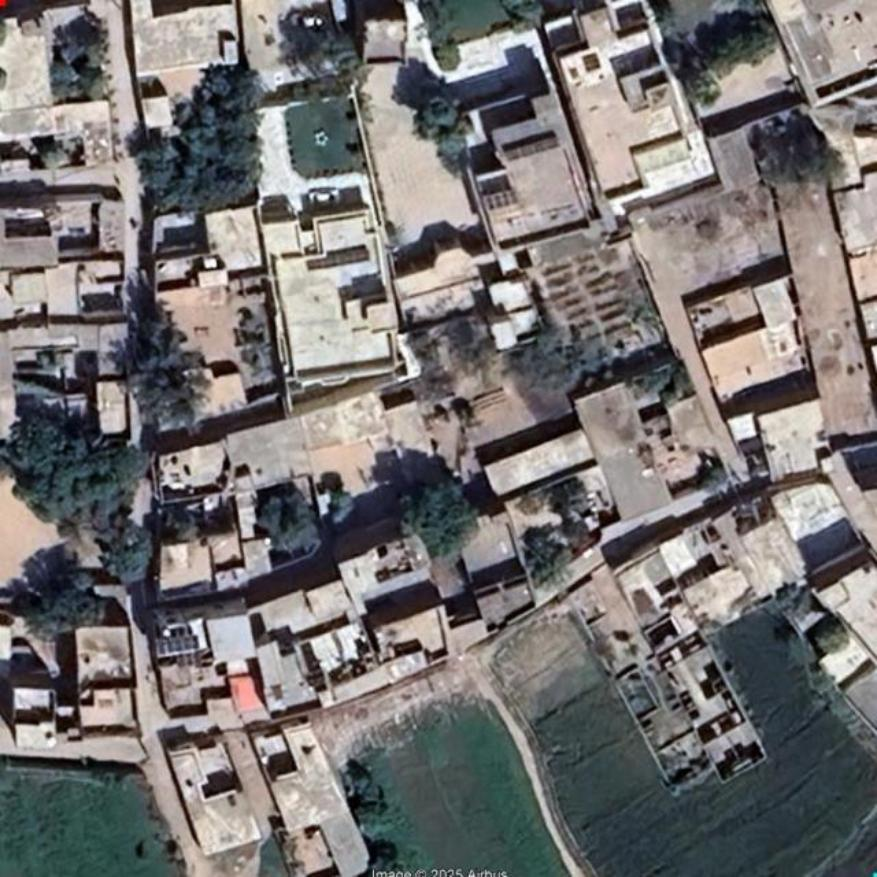Solarpanel: (308, 247, 368, 269)
